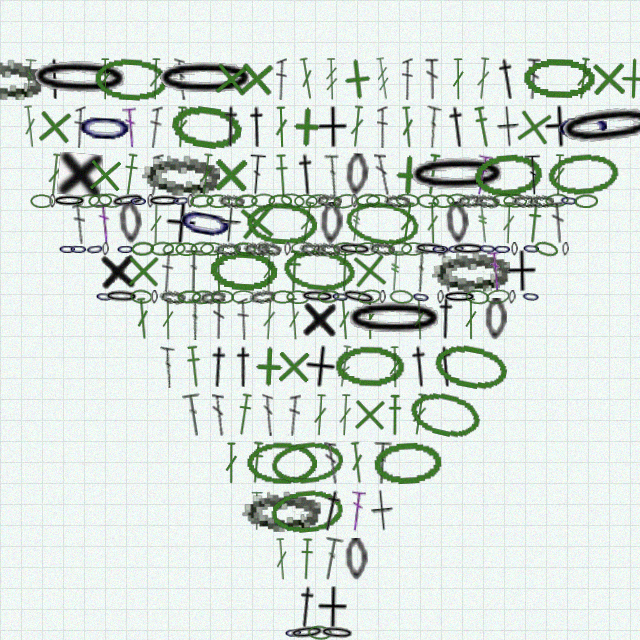chain: (27, 56, 133, 101), (405, 153, 510, 197), (554, 100, 640, 153), (406, 386, 485, 443), (342, 298, 447, 340), (153, 58, 258, 100), (431, 339, 510, 394), (343, 197, 422, 249), (168, 101, 244, 152), (269, 438, 345, 488), (281, 246, 358, 295), (431, 248, 511, 294), (269, 487, 344, 535), (546, 151, 621, 198), (93, 56, 168, 102), (472, 151, 545, 198), (242, 489, 321, 532), (245, 200, 318, 246), (142, 153, 220, 196), (173, 197, 238, 248), (208, 248, 280, 294), (372, 440, 444, 485), (522, 57, 595, 100), (334, 345, 406, 388), (246, 441, 317, 484), (553, 104, 614, 149), (75, 105, 135, 149), (0, 57, 44, 100), (118, 201, 143, 244), (445, 201, 470, 244), (345, 153, 369, 196), (345, 538, 368, 580), (320, 202, 343, 244), (485, 298, 507, 340), (340, 287, 377, 307), (110, 191, 146, 210), (289, 624, 325, 640), (413, 241, 449, 257), (337, 241, 372, 257), (319, 625, 355, 640), (104, 289, 139, 304), (300, 289, 335, 304), (533, 239, 559, 259), (442, 290, 477, 304), (451, 242, 486, 256), (52, 194, 87, 208), (147, 194, 182, 208), (75, 192, 101, 210), (304, 192, 330, 210), (332, 192, 358, 210), (249, 288, 276, 305), (255, 240, 282, 257), (485, 288, 511, 305), (97, 192, 123, 209), (159, 289, 186, 305), (199, 289, 226, 305), (243, 241, 270, 257), (299, 241, 326, 257), (218, 193, 245, 209), (473, 193, 500, 209), (357, 288, 382, 305), (280, 192, 305, 209), (492, 192, 517, 209), (389, 289, 414, 305), (465, 289, 490, 305), (189, 193, 214, 209), (369, 241, 395, 256), (316, 193, 342, 208), (457, 193, 483, 208), (191, 289, 215, 305), (162, 241, 186, 257), (233, 241, 257, 257), (234, 193, 258, 209), (416, 193, 440, 209), (307, 625, 332, 640), (395, 193, 420, 208), (215, 242, 241, 256), (315, 242, 341, 256), (384, 194, 410, 208), (512, 194, 538, 208), (528, 194, 554, 208), (150, 241, 174, 256), (190, 241, 214, 256), (291, 241, 315, 256), (388, 241, 412, 256), (88, 193, 112, 208), (251, 193, 275, 208), (356, 193, 380, 208), (446, 193, 470, 208), (545, 193, 569, 208), (130, 289, 153, 304), (317, 289, 340, 304), (131, 241, 154, 256), (177, 290, 201, 304), (231, 290, 255, 304), (271, 290, 295, 304), (286, 290, 310, 304), (200, 242, 224, 256), (333, 242, 357, 256), (355, 242, 379, 256), (401, 242, 425, 256), (206, 194, 230, 208), (268, 194, 292, 208), (294, 194, 318, 208), (366, 194, 390, 208), (503, 194, 527, 208), (574, 194, 598, 208), (211, 290, 234, 304), (175, 242, 198, 256), (30, 194, 53, 208), (432, 194, 455, 208), (411, 289, 431, 305), (85, 241, 105, 257), (521, 289, 541, 304), (446, 241, 466, 256), (171, 193, 191, 208), (559, 193, 579, 208), (284, 625, 303, 640), (95, 289, 114, 304), (331, 289, 350, 304), (478, 241, 497, 256), (522, 241, 541, 256), (58, 242, 77, 256), (69, 242, 88, 256), (116, 242, 135, 256), (431, 242, 450, 256), (493, 242, 512, 256), (129, 194, 148, 208), (508, 290, 516, 304), (151, 290, 158, 304), (379, 290, 386, 304), (437, 290, 444, 304), (102, 242, 109, 256), (284, 242, 291, 256), (511, 242, 518, 256), (562, 242, 569, 256), (49, 194, 56, 208), (147, 194, 154, 208), (187, 194, 194, 208), (351, 194, 358, 208)
double: (319, 537, 344, 581), (182, 393, 206, 437), (472, 153, 493, 196), (297, 201, 317, 244), (247, 153, 267, 196), (297, 57, 317, 100), (410, 393, 429, 436), (398, 201, 417, 244), (574, 57, 593, 100), (373, 442, 392, 484), (524, 154, 543, 196), (348, 489, 366, 532), (348, 441, 366, 484), (411, 249, 429, 292), (46, 153, 64, 196), (197, 153, 215, 196), (21, 105, 39, 148), (348, 105, 366, 148), (424, 105, 442, 148), (474, 57, 492, 100), (185, 250, 203, 292), (134, 297, 151, 340), (487, 249, 504, 292), (96, 201, 113, 244), (550, 201, 567, 244), (374, 153, 391, 196), (273, 538, 290, 580), (336, 298, 353, 340), (122, 106, 139, 148), (399, 106, 416, 148), (438, 249, 454, 292), (148, 153, 164, 196), (312, 394, 328, 436), (337, 394, 353, 436), (160, 346, 176, 388), (186, 298, 202, 340), (261, 298, 277, 340), (286, 298, 302, 340), (324, 154, 340, 196), (551, 154, 567, 196), (173, 106, 189, 148), (324, 442, 339, 484), (412, 298, 427, 340), (72, 202, 87, 244), (425, 202, 440, 244), (501, 202, 516, 244), (148, 106, 163, 148), (274, 106, 289, 148), (148, 58, 163, 100), (425, 58, 440, 100), (526, 58, 541, 100), (224, 442, 238, 484), (287, 394, 301, 436), (388, 346, 402, 388), (161, 298, 175, 340), (212, 298, 226, 340), (363, 298, 377, 340), (464, 298, 478, 340), (262, 250, 276, 292), (149, 202, 163, 244), (98, 58, 112, 100), (174, 58, 188, 100), (451, 58, 465, 100), (212, 394, 225, 436), (262, 394, 275, 436), (237, 298, 250, 340), (161, 250, 174, 292), (74, 106, 86, 148), (377, 106, 388, 148), (276, 58, 287, 100), (402, 58, 413, 100)
half_double: (315, 488, 348, 534), (292, 585, 321, 629), (493, 57, 522, 101), (205, 345, 232, 389), (444, 105, 471, 149), (407, 345, 433, 388), (433, 345, 459, 388), (433, 297, 459, 340), (218, 105, 244, 148), (294, 153, 319, 196), (231, 346, 256, 388), (471, 105, 494, 149), (245, 106, 269, 148), (43, 58, 67, 100), (233, 393, 255, 436), (120, 153, 141, 196), (422, 153, 443, 196), (184, 345, 204, 388), (524, 201, 544, 244), (247, 441, 266, 484), (285, 250, 303, 292), (273, 154, 291, 196), (298, 538, 315, 580), (210, 250, 227, 292), (336, 250, 353, 292), (387, 394, 403, 436)
single: (510, 103, 558, 151), (208, 56, 254, 102), (334, 56, 380, 102), (57, 152, 103, 197), (347, 248, 392, 293), (234, 200, 279, 245), (32, 104, 77, 149), (234, 56, 279, 101), (83, 153, 127, 197), (386, 153, 430, 197), (285, 105, 329, 149), (348, 393, 391, 436), (247, 345, 290, 388), (272, 345, 315, 388), (209, 153, 252, 196), (587, 57, 630, 100), (122, 250, 164, 292), (300, 297, 340, 340), (98, 249, 138, 292), (302, 344, 338, 389), (163, 201, 198, 245), (542, 105, 576, 148), (316, 586, 348, 628), (505, 250, 537, 292), (316, 106, 348, 148), (612, 57, 640, 100), (370, 489, 395, 532), (218, 201, 243, 244), (496, 105, 521, 148)
treble: (373, 57, 393, 100), (335, 345, 354, 388), (347, 201, 366, 244), (474, 201, 492, 244), (21, 57, 38, 100), (387, 250, 403, 292), (324, 58, 339, 100), (250, 490, 264, 532)
